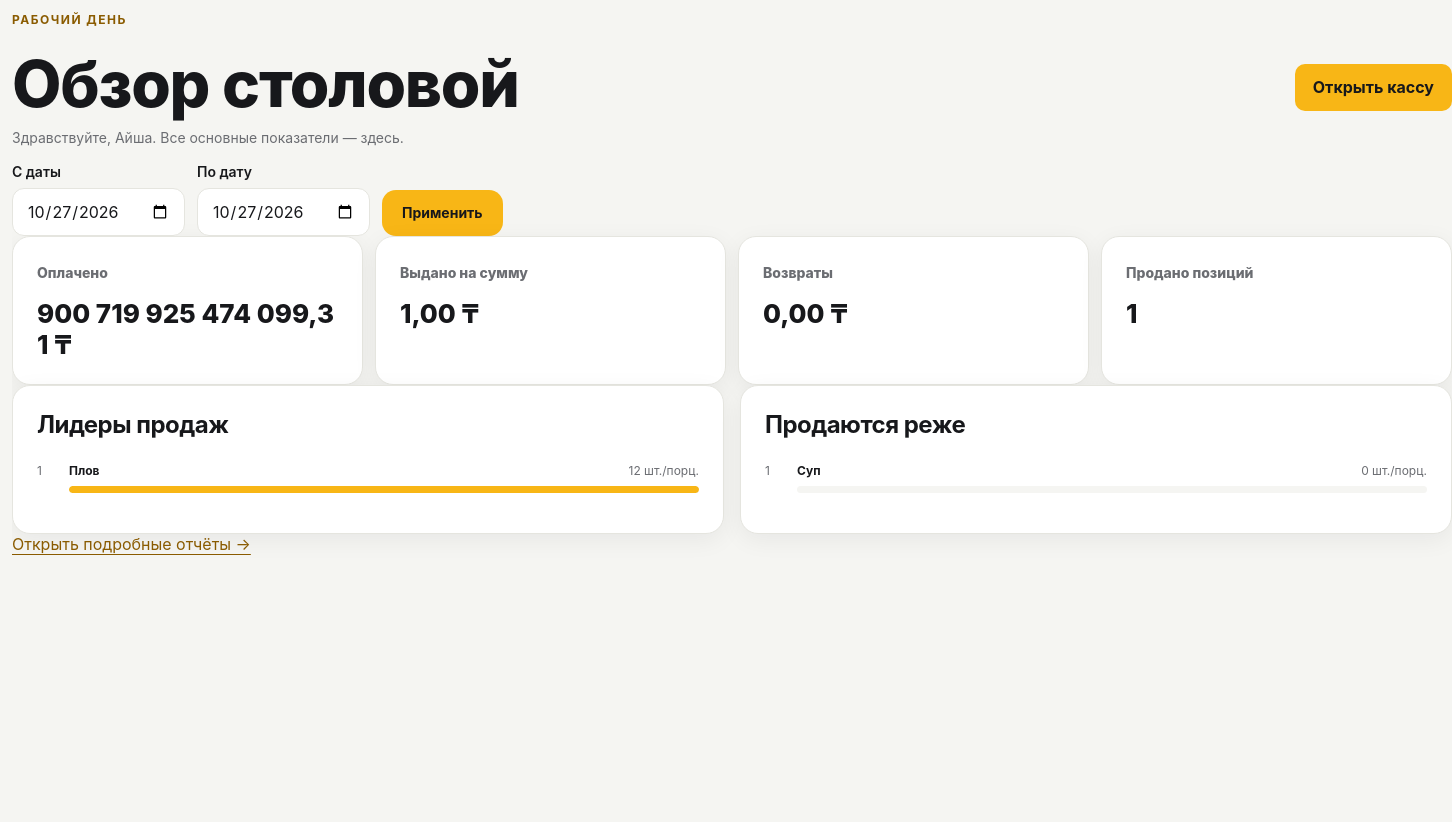
Scenario: обзор показывает точные суммы и нулевые продажи, сессии отсутствуют
Expected: the text "900 719 925 474 099,31 ₸" is shown, [37,298,338,360]
Expected: the text "0 шт./порц." is shown, [1361,463,1427,478]
Clear the date field labelled "По дату" at x=284, y=212, box [197,188,370,236]
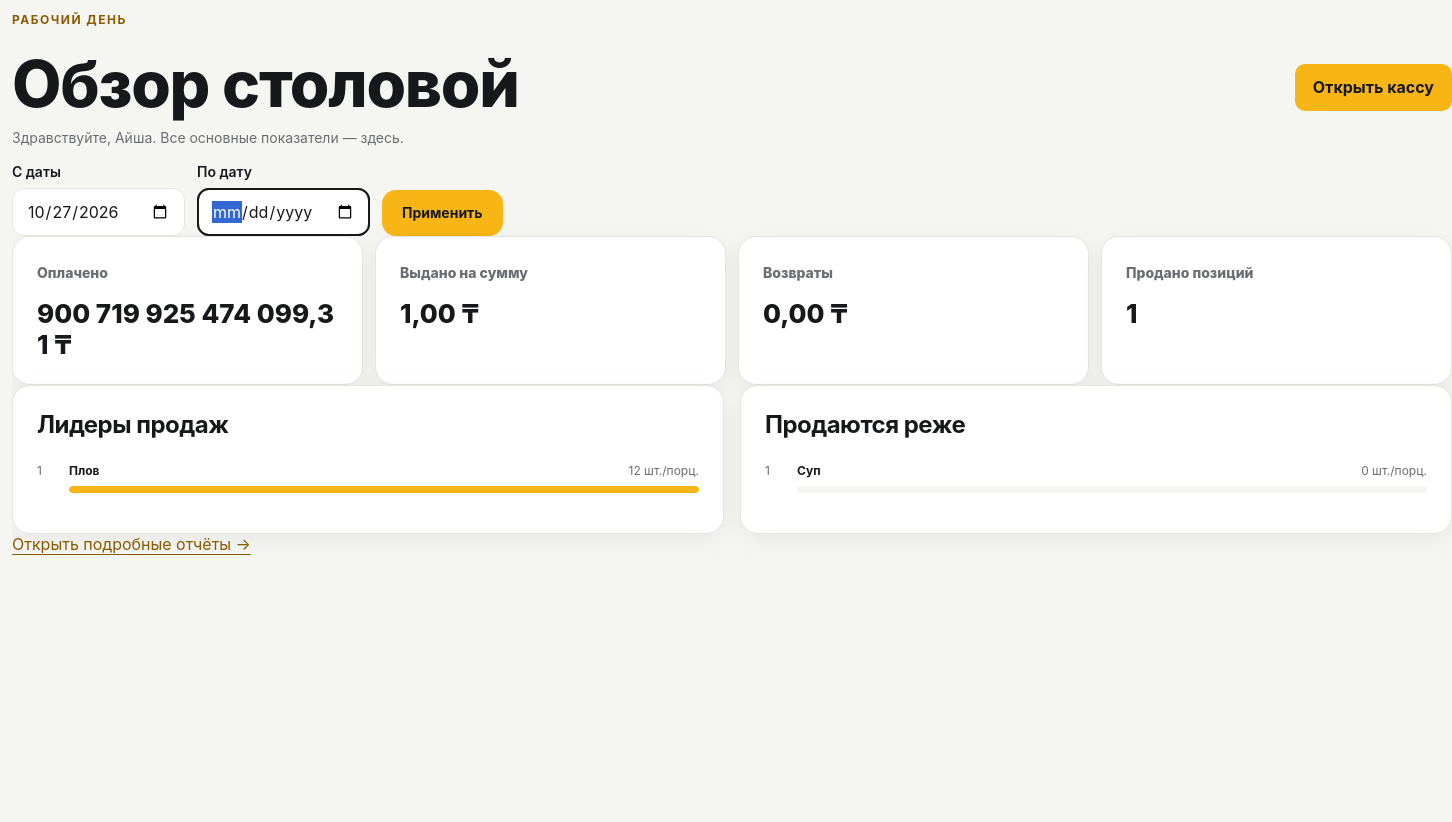
Click the button "Применить" at x=442, y=213, box [382,190,503,236]
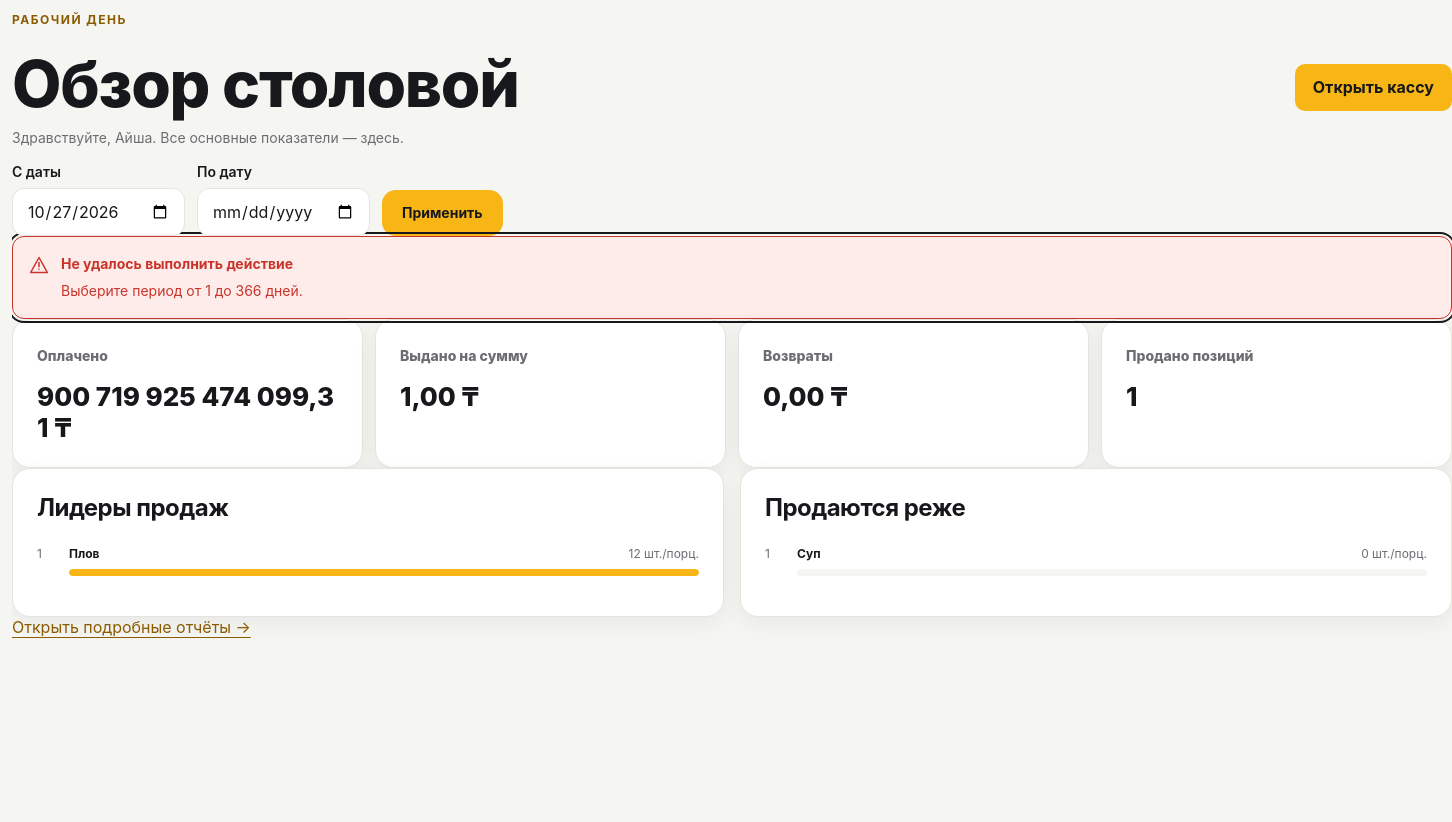
Expected: the text "Выберите период от 1 до 366 дней." is shown, [61,280,303,302]
